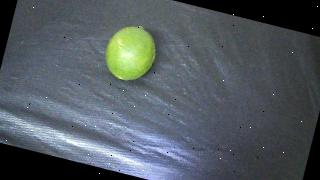LOCAL: (100, 20, 161, 86)
